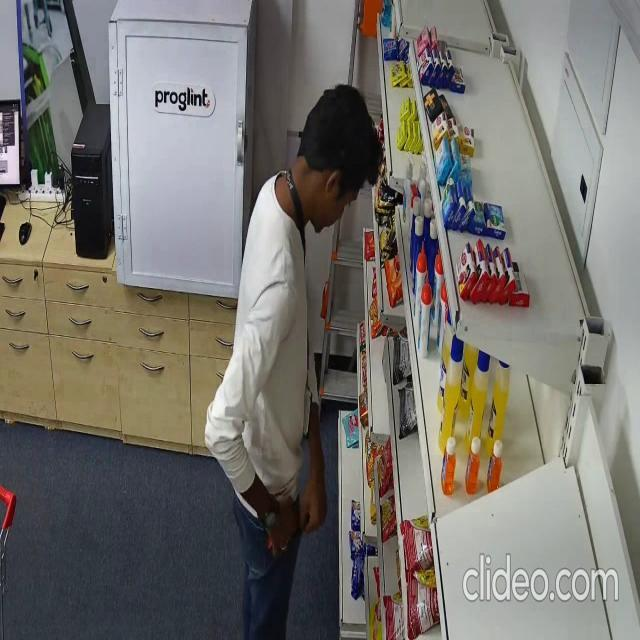Shoplifting: (205, 79, 386, 640)
